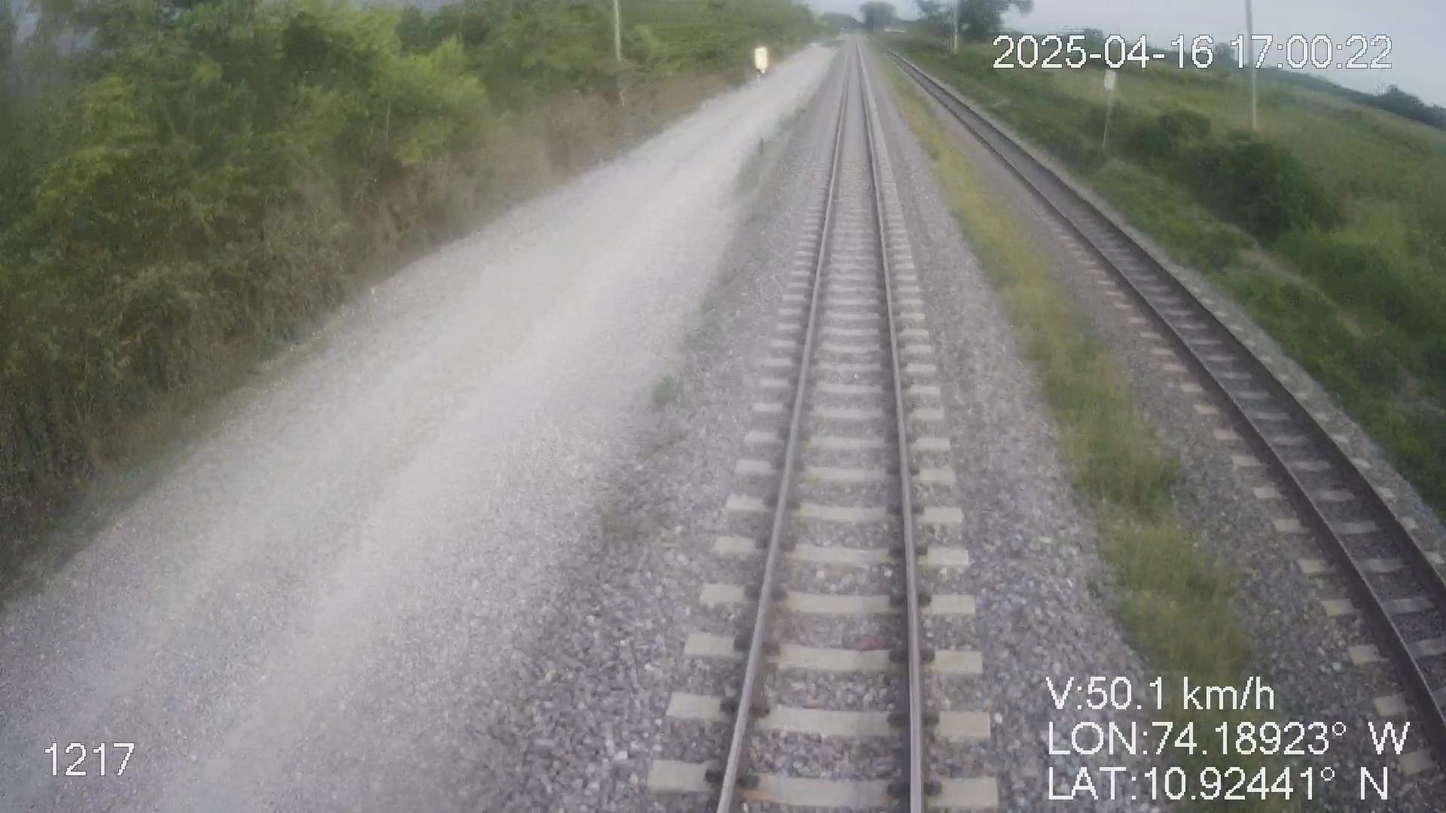Pasto: (0, 0, 831, 610), (884, 26, 1445, 528)
